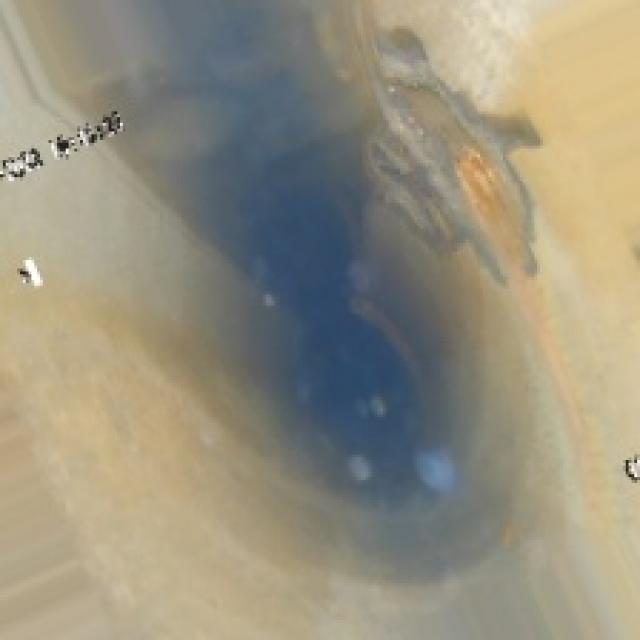pipe_surface_damage: (346, 23, 543, 286)
